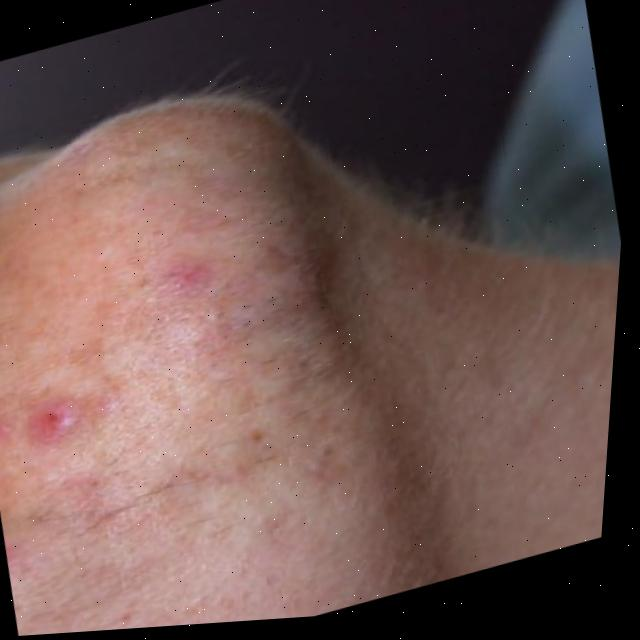Acne: (0, 246, 261, 456)
